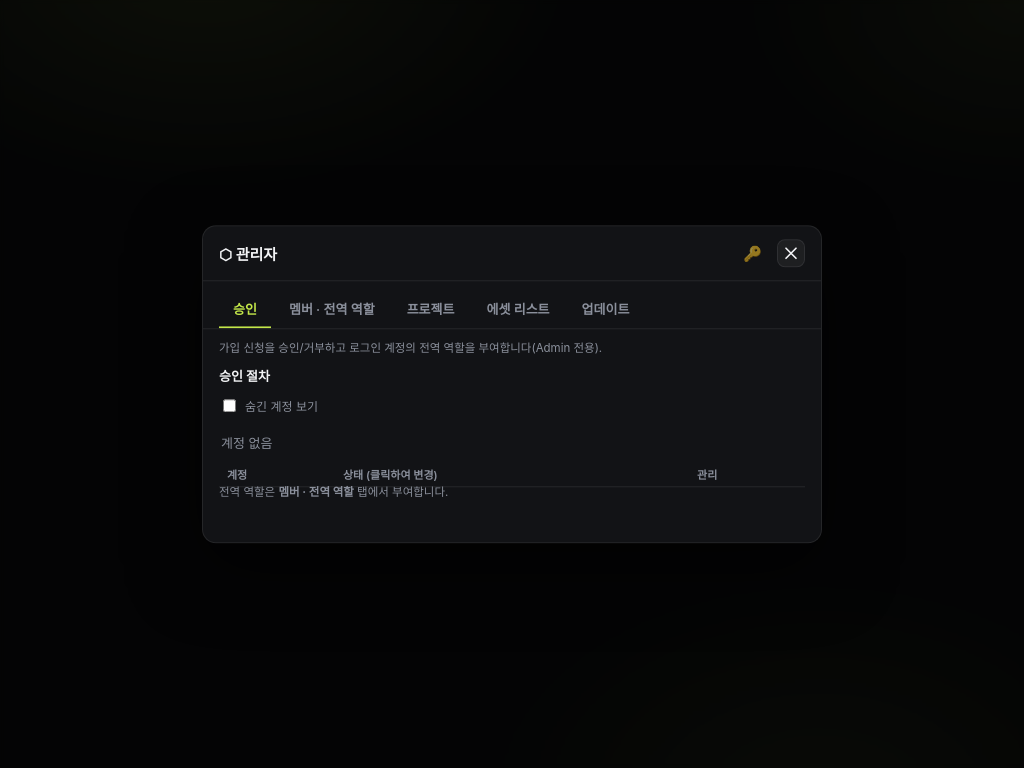
Test: '업데이트' 탭은 열 때 읽고, 팀 배포 단추 없이 [이 PC에 먼저 설치]만 둔다(팀 배포는 서버 관리 창 [릴리스])
Click the button with class "admin-tab" showing "업데이트" at (606, 310), box [568,291,643,328]
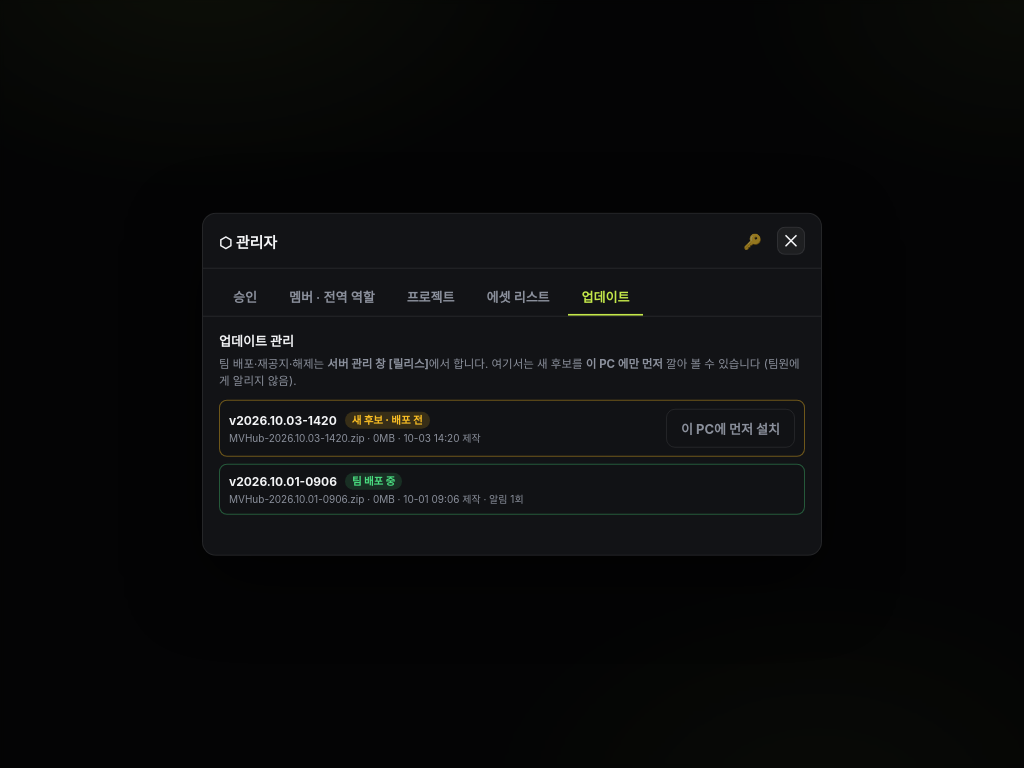
Check: the text "업데이트 관리" is shown, box [219,333,294,349]
Check: the text "서버 관리 창 [릴리스]" is shown, box [327,357,429,371]
Check: the text "v2026.10.03-1420" is shown, box [229,411,430,428]
